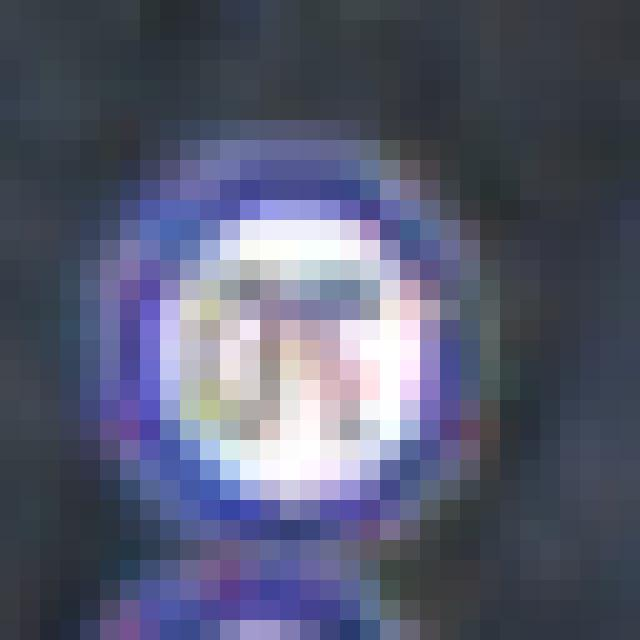SPEED LIMIT 70: (86, 121, 500, 536)
